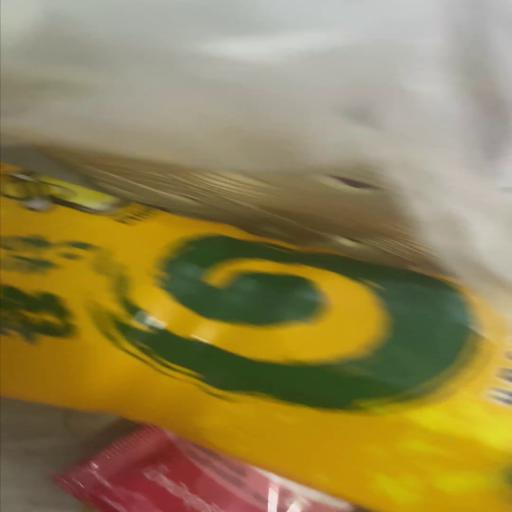street_golden_defect: (2, 0, 511, 465)
